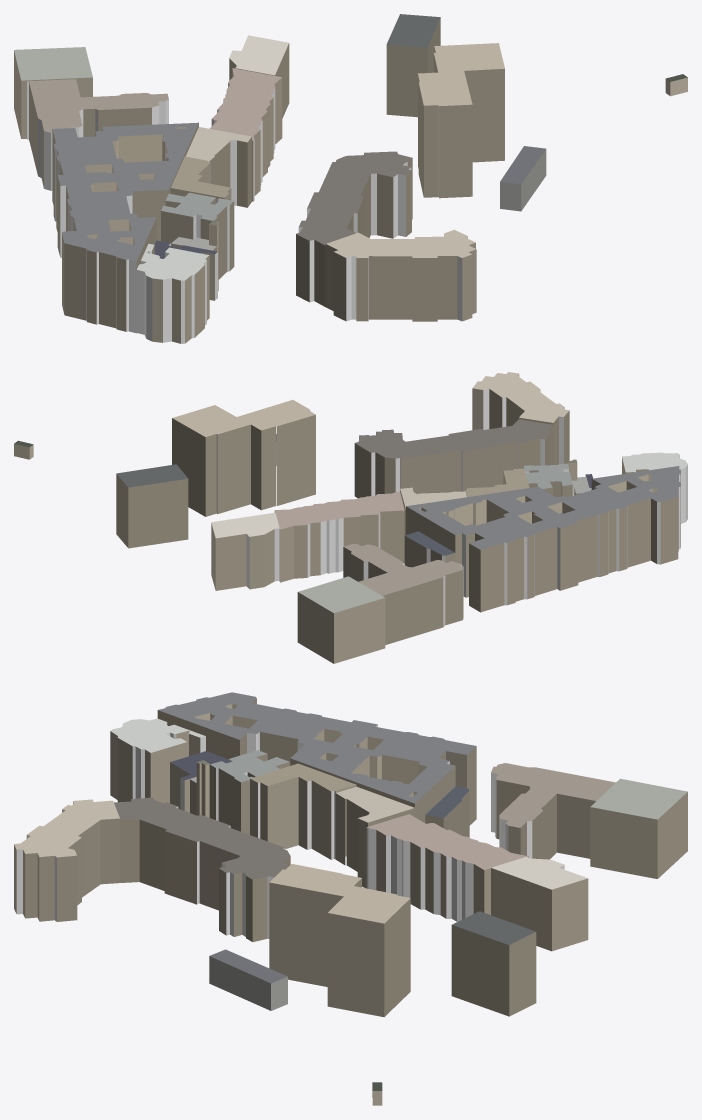
The picture shows the model from 3 angles, top to bottom: view 1: azimuth 30°, elevation 25°; view 2: azimuth 150°, elevation 25°; view 3: azimuth 270°, elevation 25°; orthographic projection. The views are drawn at different scales.
Visible parts, largest first — view 1: tuile; view 2: tuile; view 3: tuile.
Part boxes in pixels (x1,y1,x2,y2): tuile: [14, 14, 687, 343]; tuile: [14, 372, 687, 663]; tuile: [14, 692, 687, 1105].
Size of the model in its own units: 252 by 32.46 by 209.
